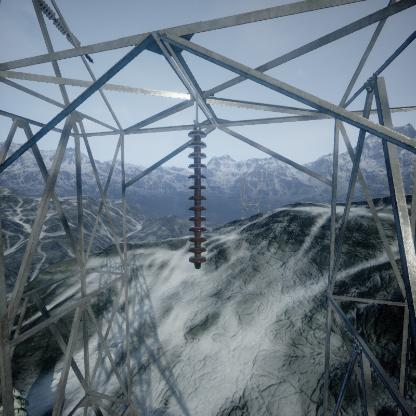insulator: (186, 124, 209, 272)
